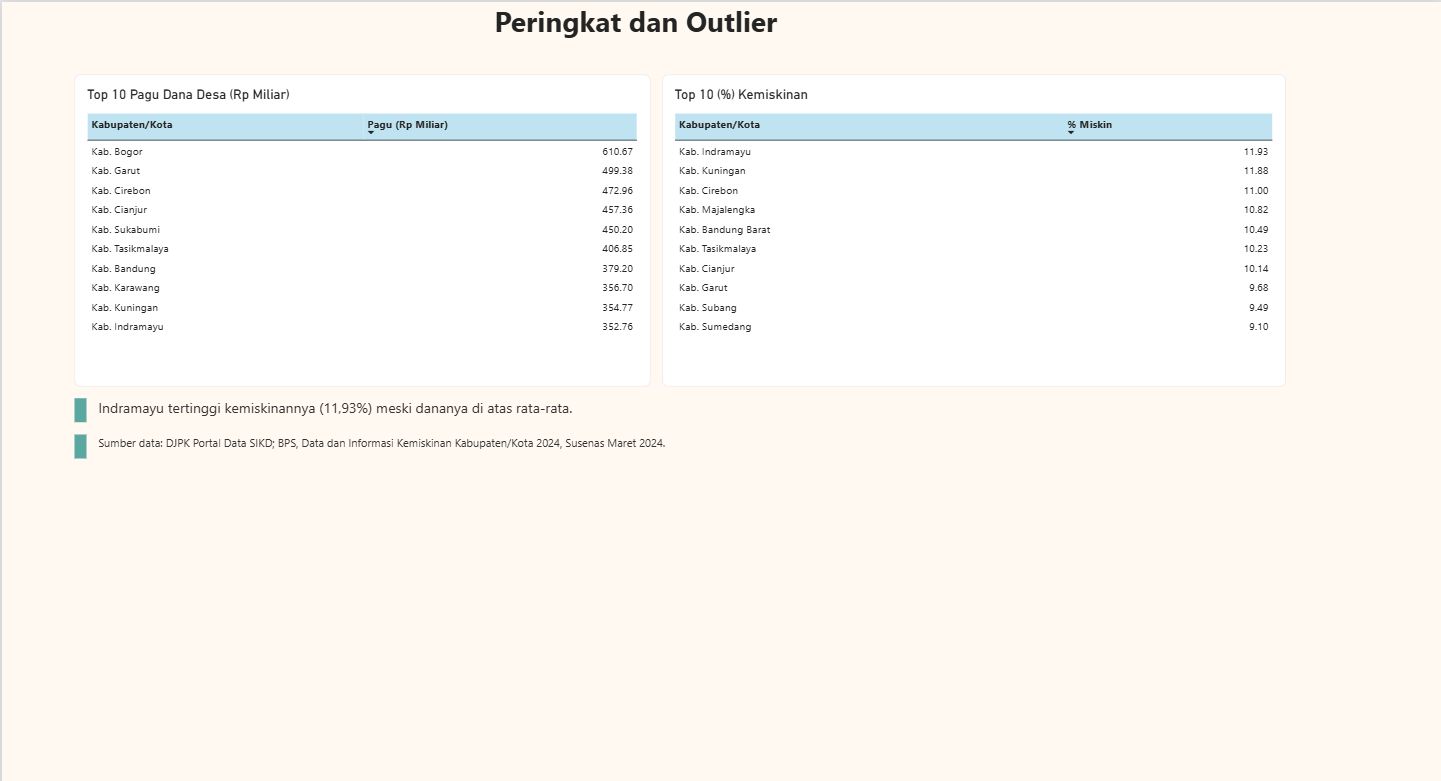

The page's visual inventory and layout, read from the dashboard file:
{"tool":"powerbi","page":{"name":"Peringkat & Outlier","canvas":[1920,1080],"ordinal":2},"visuals":[{"type":"tableEx","fields":{"Values":["Dim_Kabupaten.Nama_Kab","Dana_Desa_2024.Total Pagu Dana Desa"]},"box":[10.8,0,378.2,412.5],"z":0},{"type":"tableEx","fields":{"Values":["Dim_Kabupaten.Nama_Kab","Kemiskinan_BPS_2024.Rata-rata % Miskin"]},"box":[389,0,378,412],"z":1000},{"type":"textbox","box":[10.5,475.3,1421.1,412.5],"z":2000}]}

Visuals, with their boxes on the page's 1920x1080 design canvas (x1, y1, x2, y2). These are canvas units, not pixel positions in the 1441x781 screenshot, which may show the page scaled, cropped or inside an application window:
tableEx - Dim_Kabupaten.Nama_Kab x Dana_Desa_2024.Total Pagu Dana Desa: [x1=11, y1=0, x2=389, y2=412]
tableEx - Dim_Kabupaten.Nama_Kab x Kemiskinan_BPS_2024.Rata-rata % Miskin: [x1=389, y1=0, x2=767, y2=412]
textbox: [x1=10, y1=475, x2=1432, y2=888]
